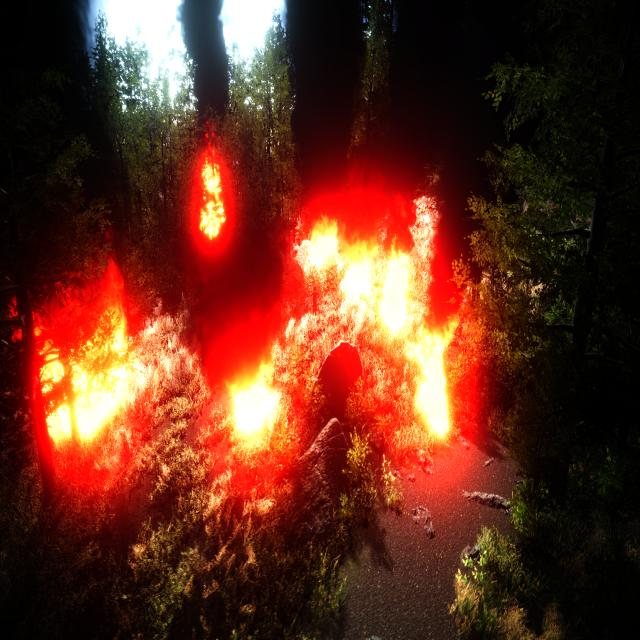Human: (310, 276, 321, 324)
